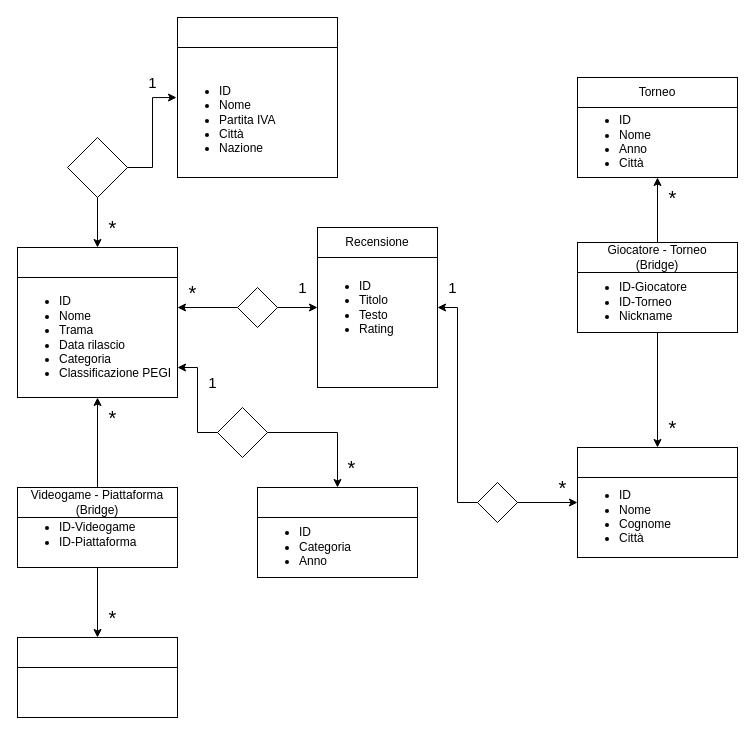
The diagram is 755 pixels wide and 736 high, and some of its shapes have lost their labels. Each missing label, with the centre of its shape:
"Giocatore" belongs at (657,462).
"ID Nome" belongs at (97,692).
"Piattaforma" belongs at (97,652).
"Premio" belongs at (337,502).
"Software house" belongs at (257,32).
"Videogame" belongs at (97,262).
